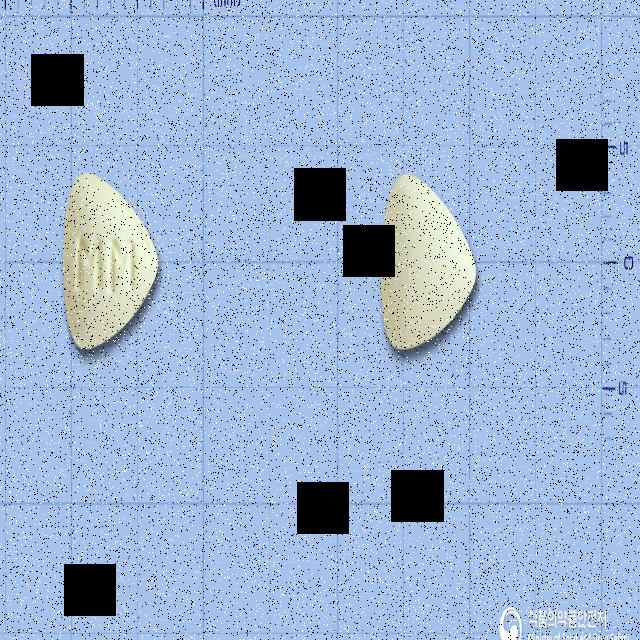Leflunomide Myungmoon -20mg: (62, 170, 159, 352)
